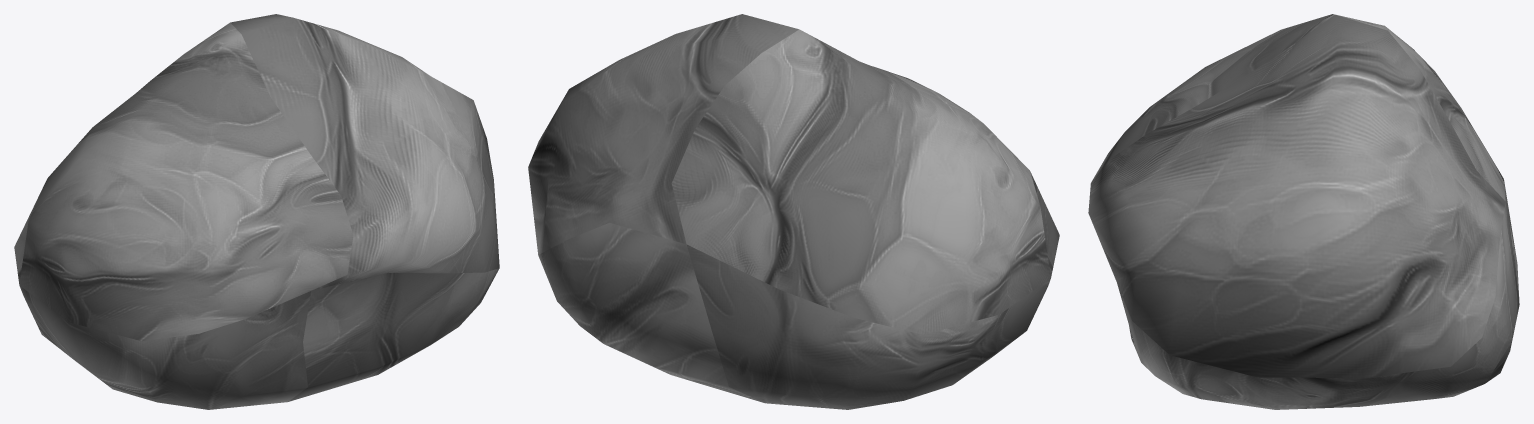
File: Rock_Textured.FBX
The picture shows the model from 3 angles, left to right: view 1: azimuth 30°, elevation 25°; view 2: azimuth 150°, elevation 25°; view 3: azimuth 270°, elevation 25°; orthographic projection. The views are drawn at different scales.
Visible parts, largest first — view 1: Box001; view 2: Box001; view 3: Box001.
Boxes of the visible parts, x1,y1,x2,y2 form: Box001: [14, 14, 499, 409]; Box001: [528, 14, 1059, 409]; Box001: [1088, 14, 1519, 409].
Bounding box in the file's own units: 1.89 × 1.25 × 1.42.
1 material, 1 textured.
